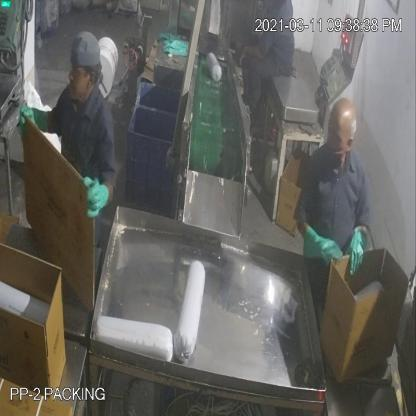glove: (300, 216, 344, 274), (344, 216, 368, 285)
no_glove: (236, 33, 265, 70)
